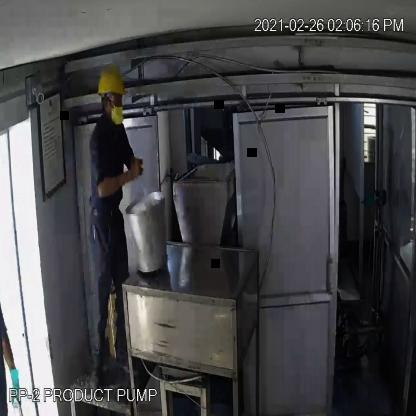helmet: (95, 62, 128, 103)
